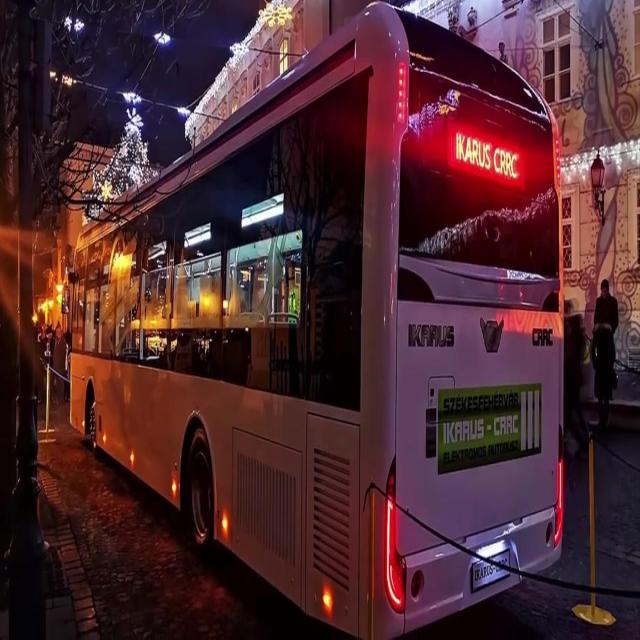bus: (64, 1, 572, 640)
